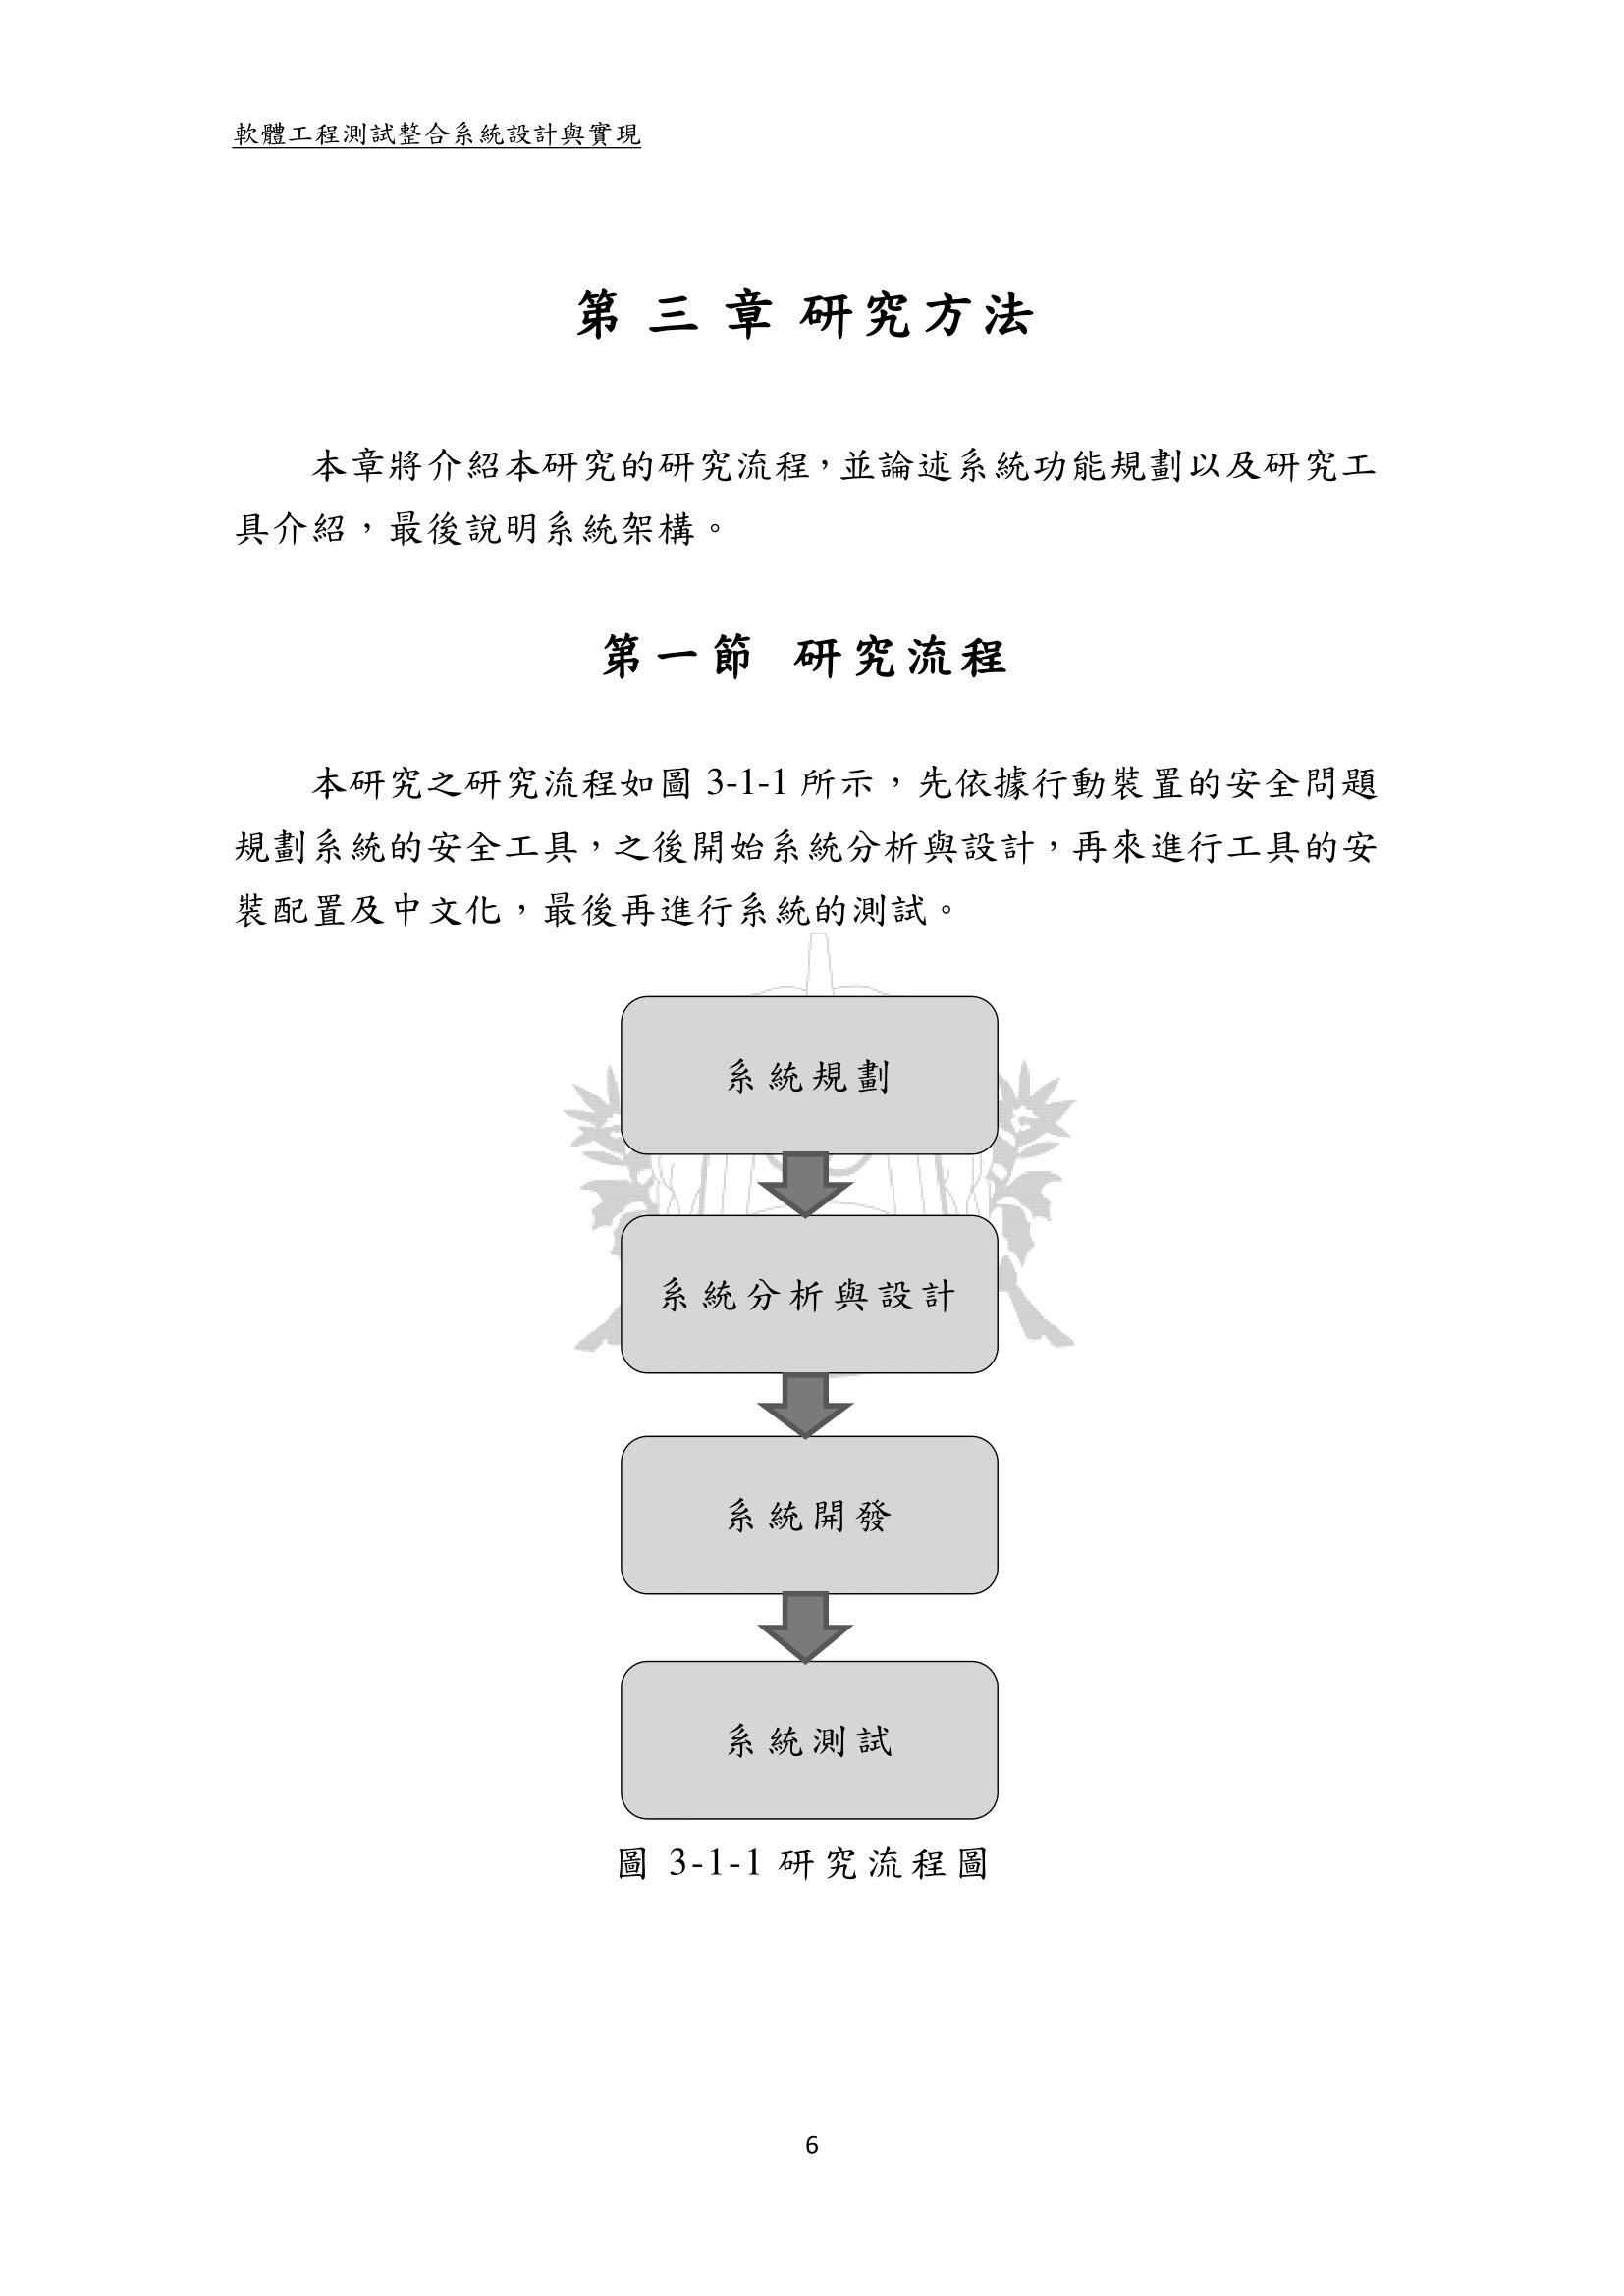text: (204, 747, 1410, 947), (228, 420, 1385, 574), (554, 265, 1040, 355), (575, 611, 1042, 696), (216, 104, 663, 162)
